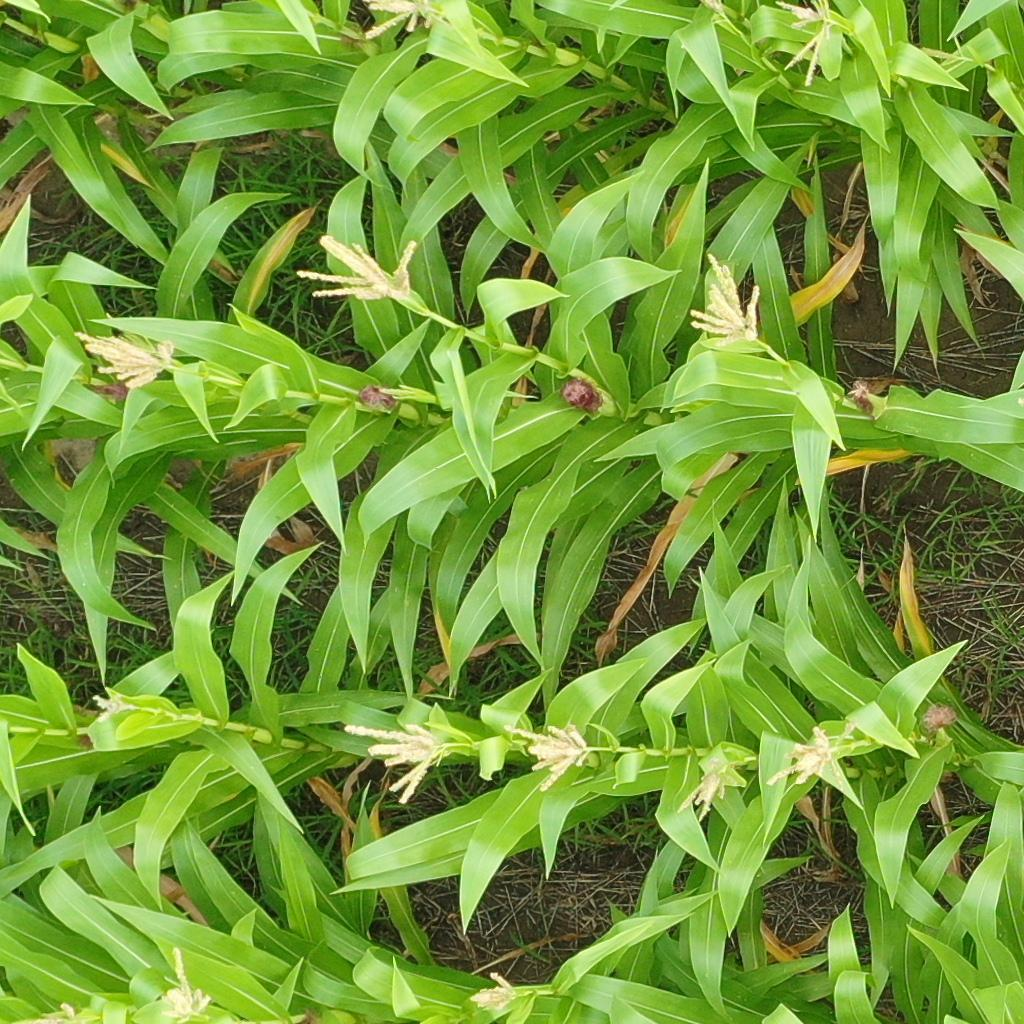Tassel: (343, 717, 446, 806), (297, 231, 421, 303), (689, 250, 763, 349), (766, 720, 869, 790), (73, 324, 178, 387), (506, 721, 596, 794), (779, 1, 841, 87), (159, 946, 212, 1024), (362, 1, 451, 46), (680, 753, 734, 823), (922, 32, 974, 75), (469, 970, 520, 1011), (94, 692, 139, 723), (30, 1001, 84, 1024)
